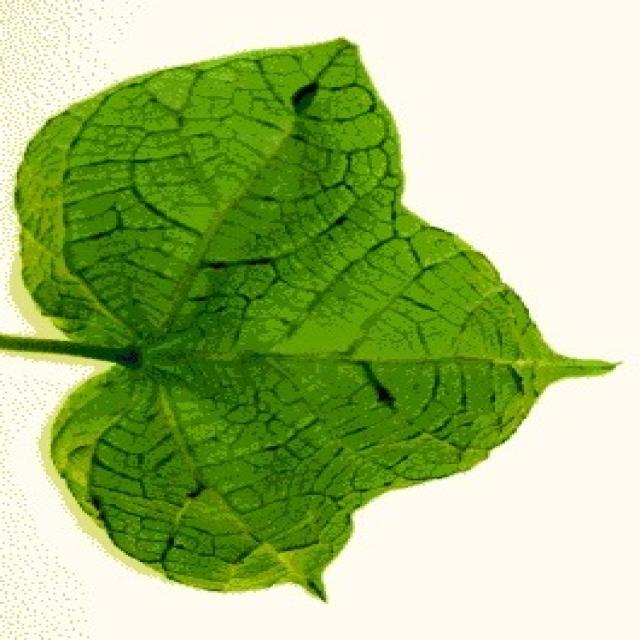Leaf Curl Virus: (101, 141, 388, 391)
